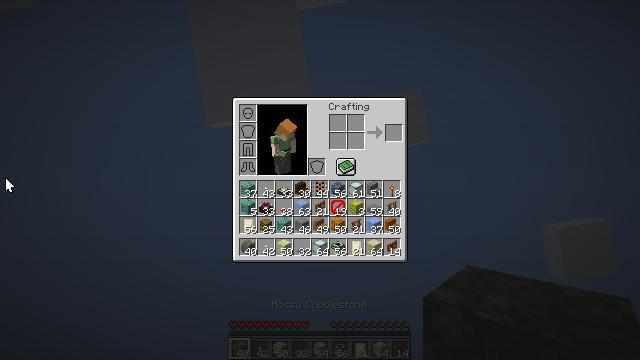cursor: (177, 5, 193, 15)
